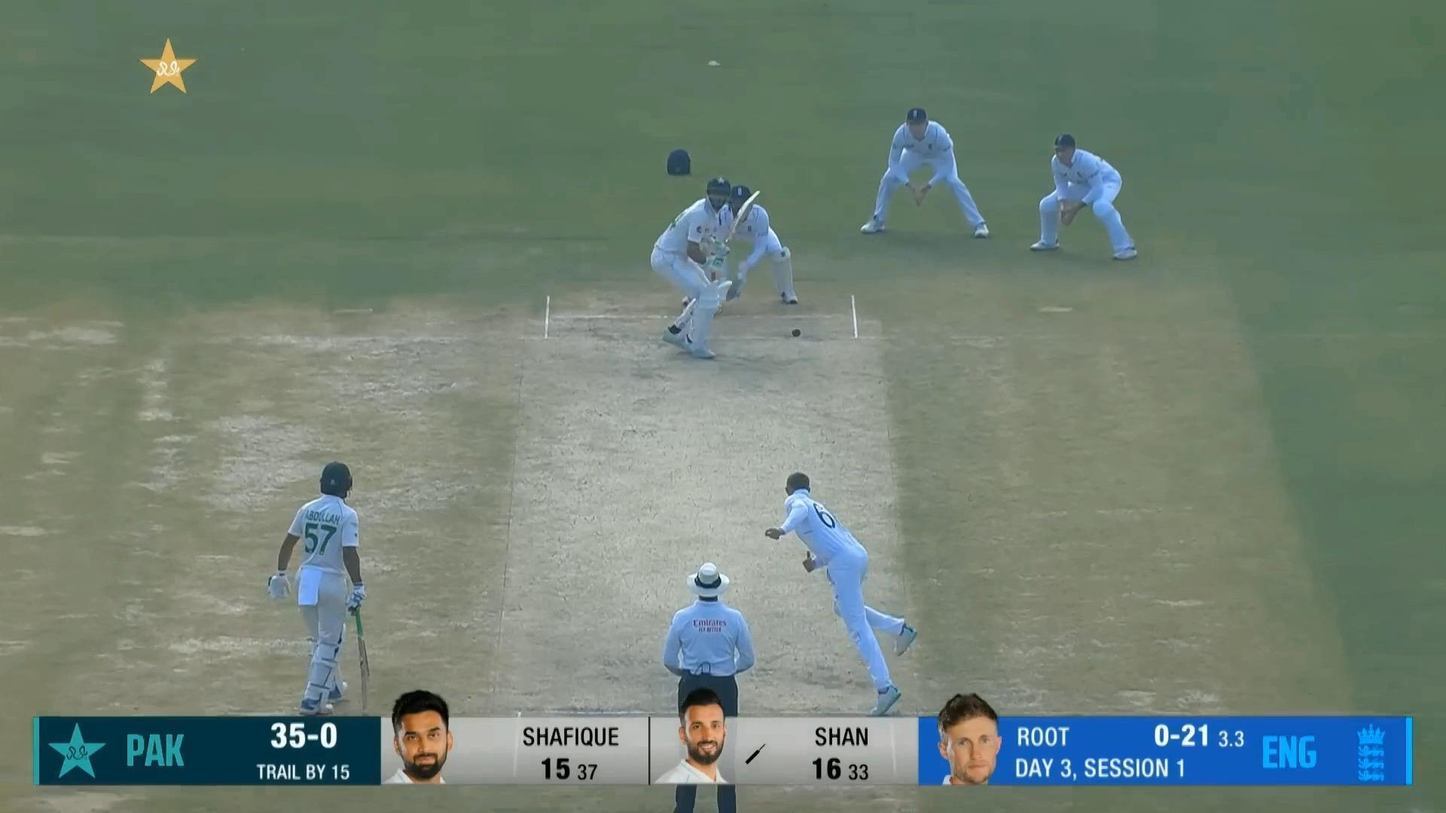BM 1: (650, 177, 760, 359)
BO: (765, 470, 919, 717)
